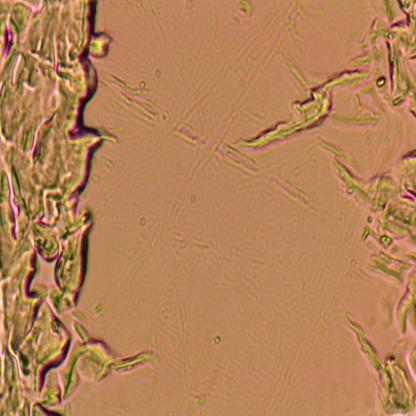Stage III: (0, 7, 103, 416)
